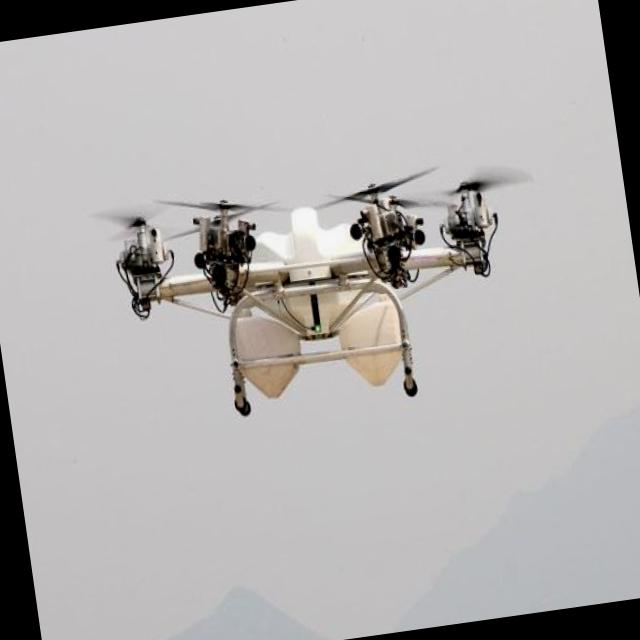drone: (94, 149, 560, 439)
